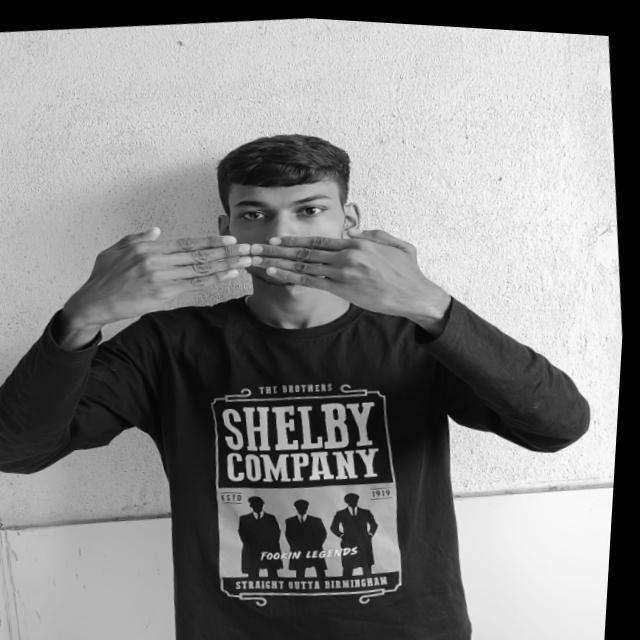Night: (84, 192, 441, 336)
